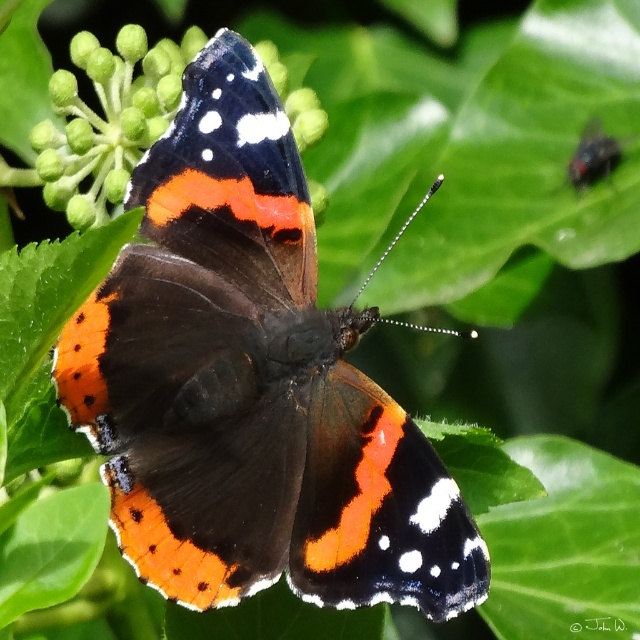Butterfly: (49, 26, 493, 622)
